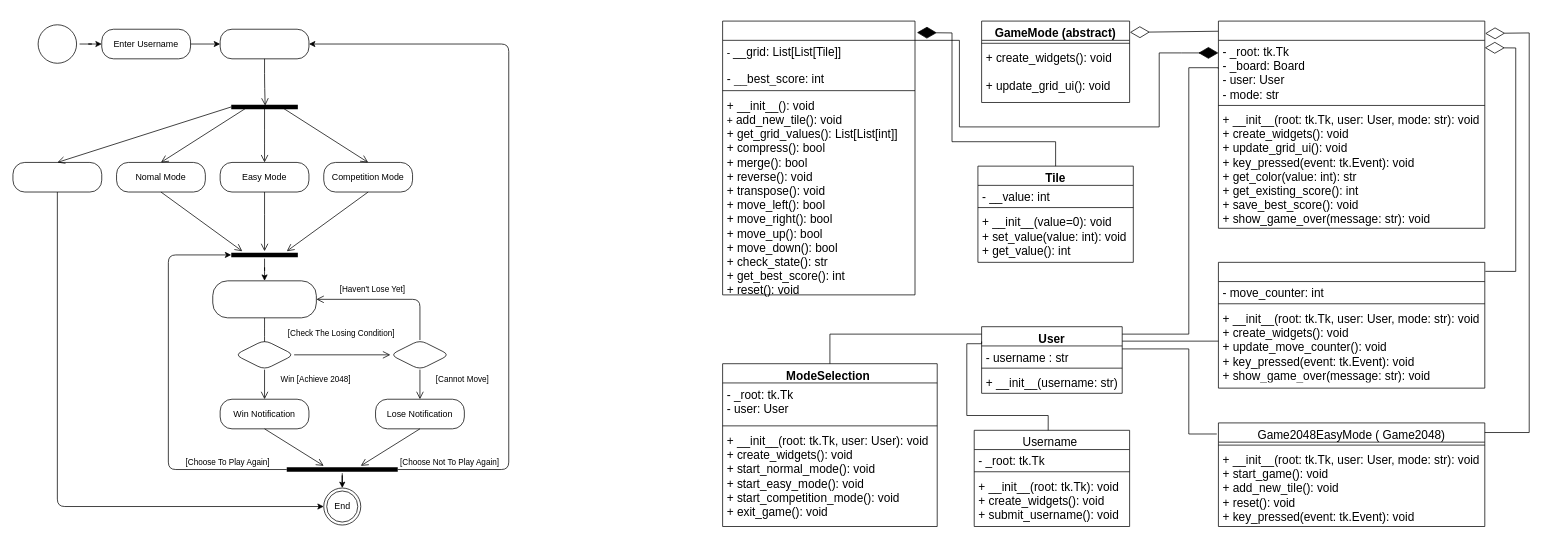
Some shapes in this 1561 by 542 pixel diagram are drawn without their labels. The box of each missing label's shape, as (x1, y1, x2, y2) in pixels:
Board: (722, 20, 915, 295)
Exit: (12, 162, 102, 192)
Game2048 (GameMode): (1218, 20, 1485, 228)
Game2048CompetitionMode (Game2048): (1218, 262, 1485, 388)
Menu Mode: (219, 28, 309, 59)
Move [Up, Down, Left, Right]: (212, 280, 316, 318)
Start: (34, 21, 80, 66)
